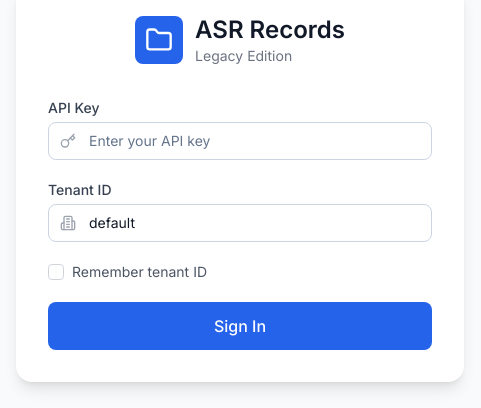
Login page › disables inputs while loading
Type "sk-ant-key-1234567890" into the password field labelled "API Key" at coordinates (240, 141), box top-left (48, 122), bottom-right (432, 160)
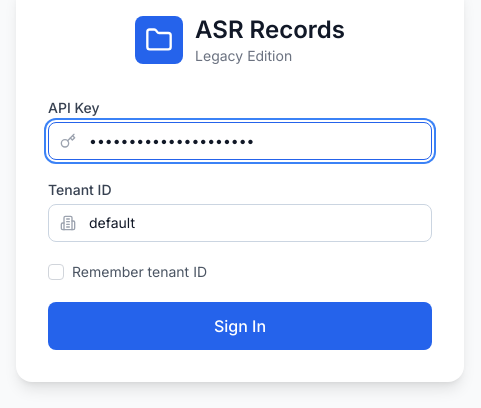
Click the button "Sign In" at coordinates (240, 326), box top-left (48, 302), bottom-right (432, 350)
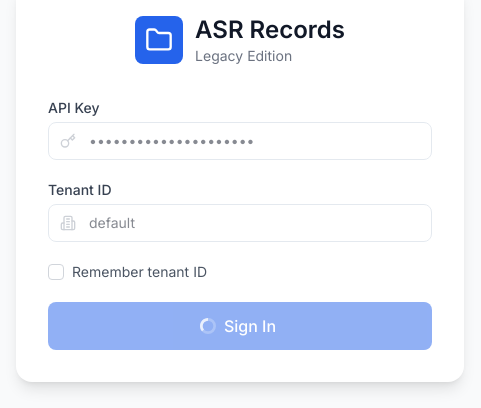
expect the password field labelled "API Key" is disabled: met, box top-left (48, 122), bottom-right (432, 160)
expect the field labelled "Tenant ID" is disabled: met, box top-left (48, 204), bottom-right (432, 242)
expect the button "Sign In" is disabled: met, box top-left (48, 302), bottom-right (432, 350)
